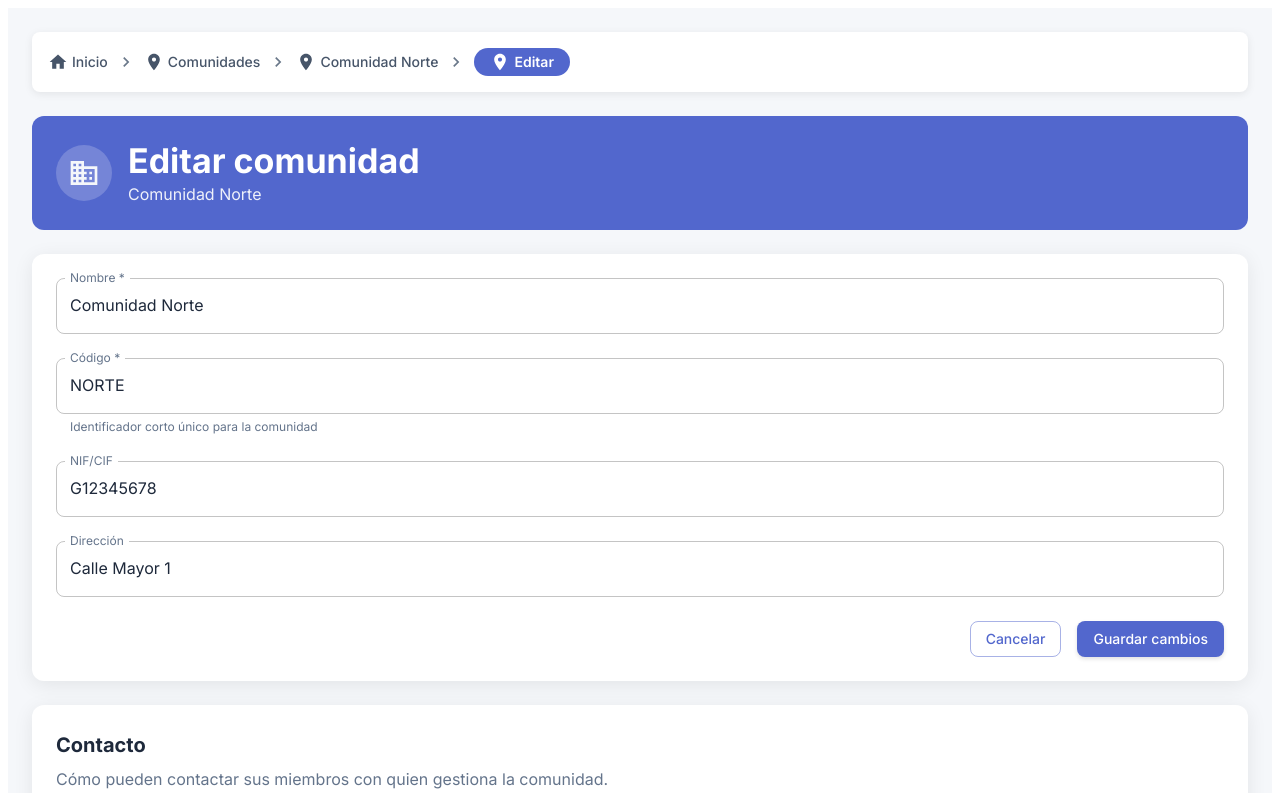
it: EditCommunityPage: a refused edit (#232) › UI-ERR-002 clears the API error once its input is edited, not when another input is
The image size is (1280, 793).
Replace the text in the field labelled "Código *" with "SUR" at (640, 386), box [56,358,1224,414]
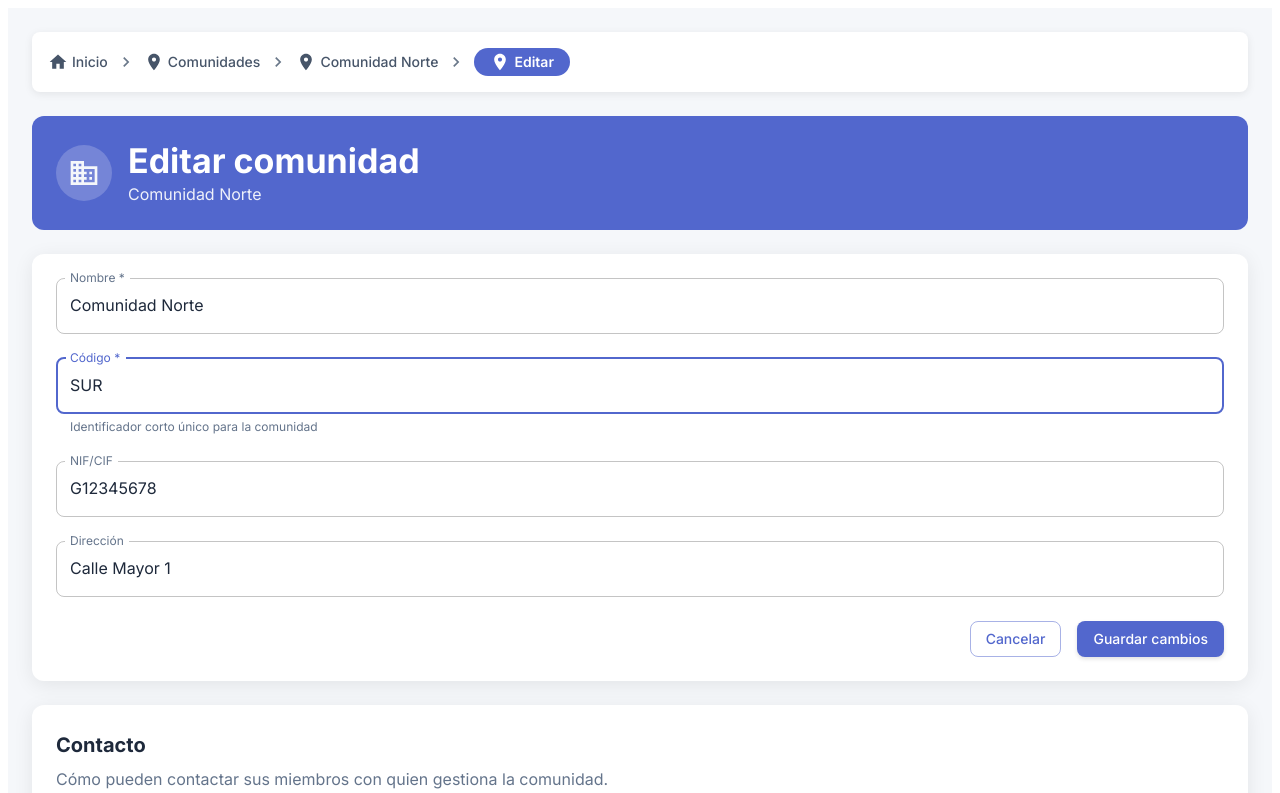
Replace the text in the field labelled "NIF/CIF" with "G87654321" at (640, 489), box [56,461,1224,517]
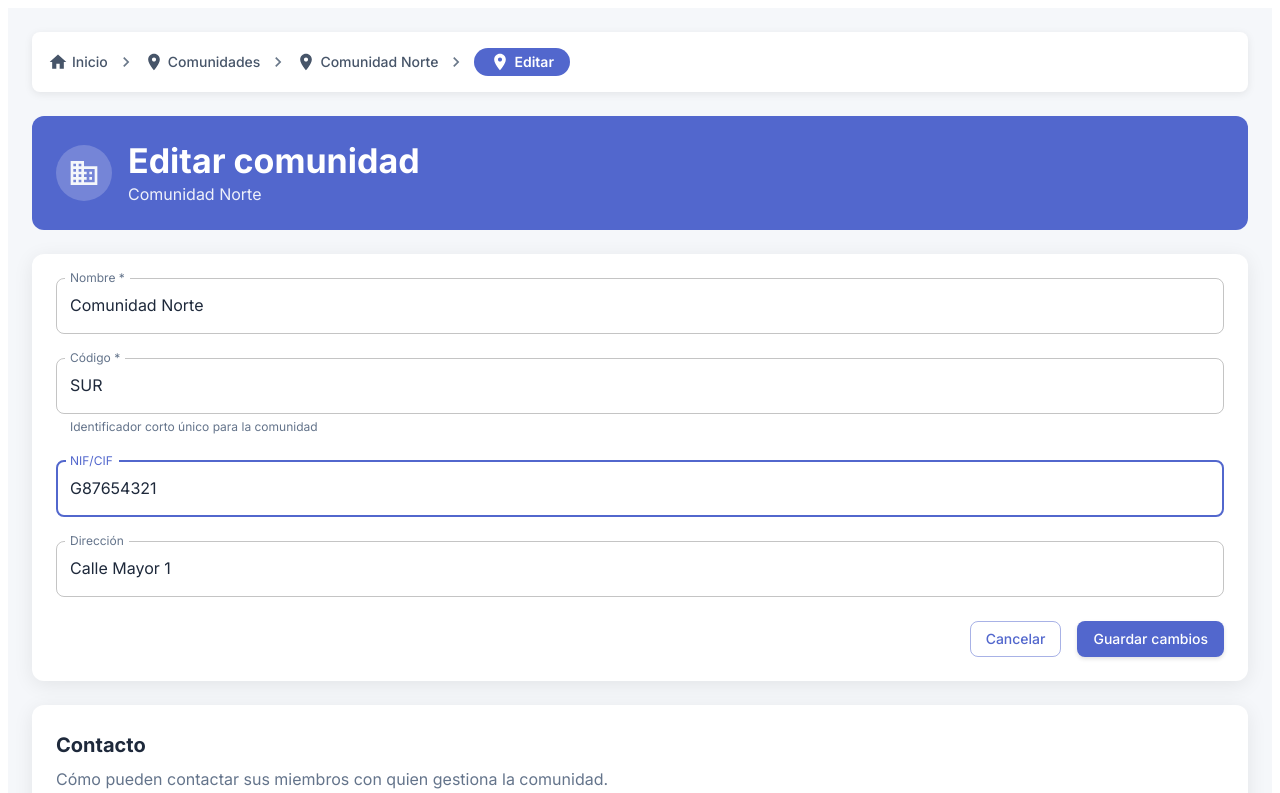
Click the button "Guardar cambios" at (1151, 639), box [1078,621,1224,657]
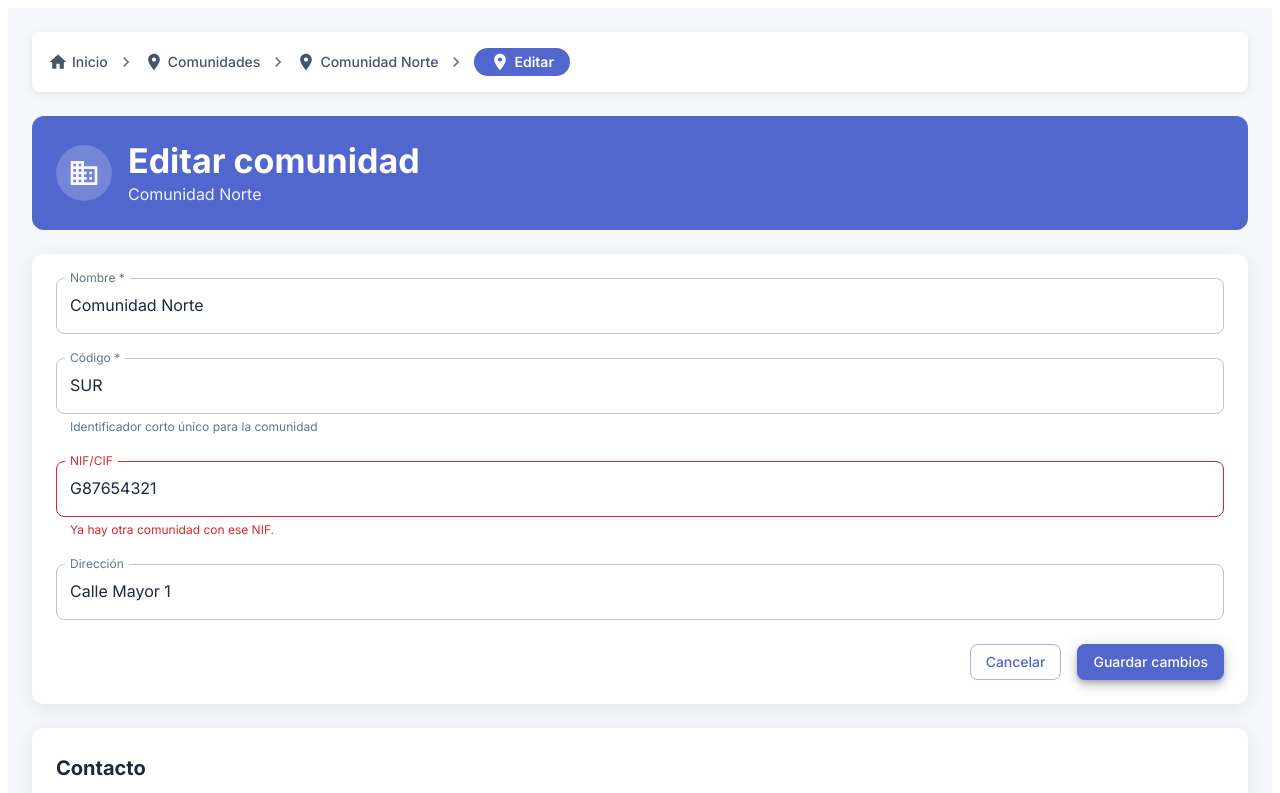
Type "2" into the field labelled "Código *" at (640, 386), box [56,358,1224,414]
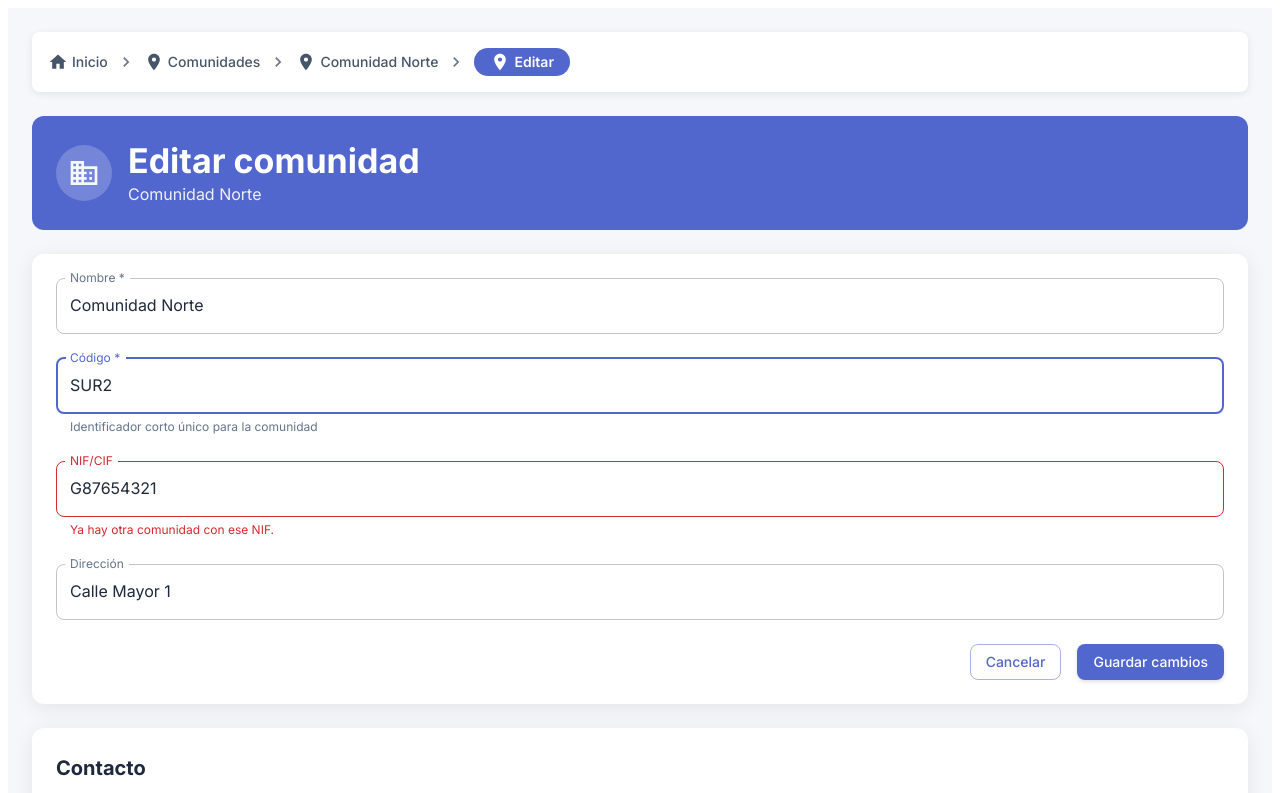
Type "0" into the field labelled "NIF/CIF" at (640, 489), box [56,461,1224,517]
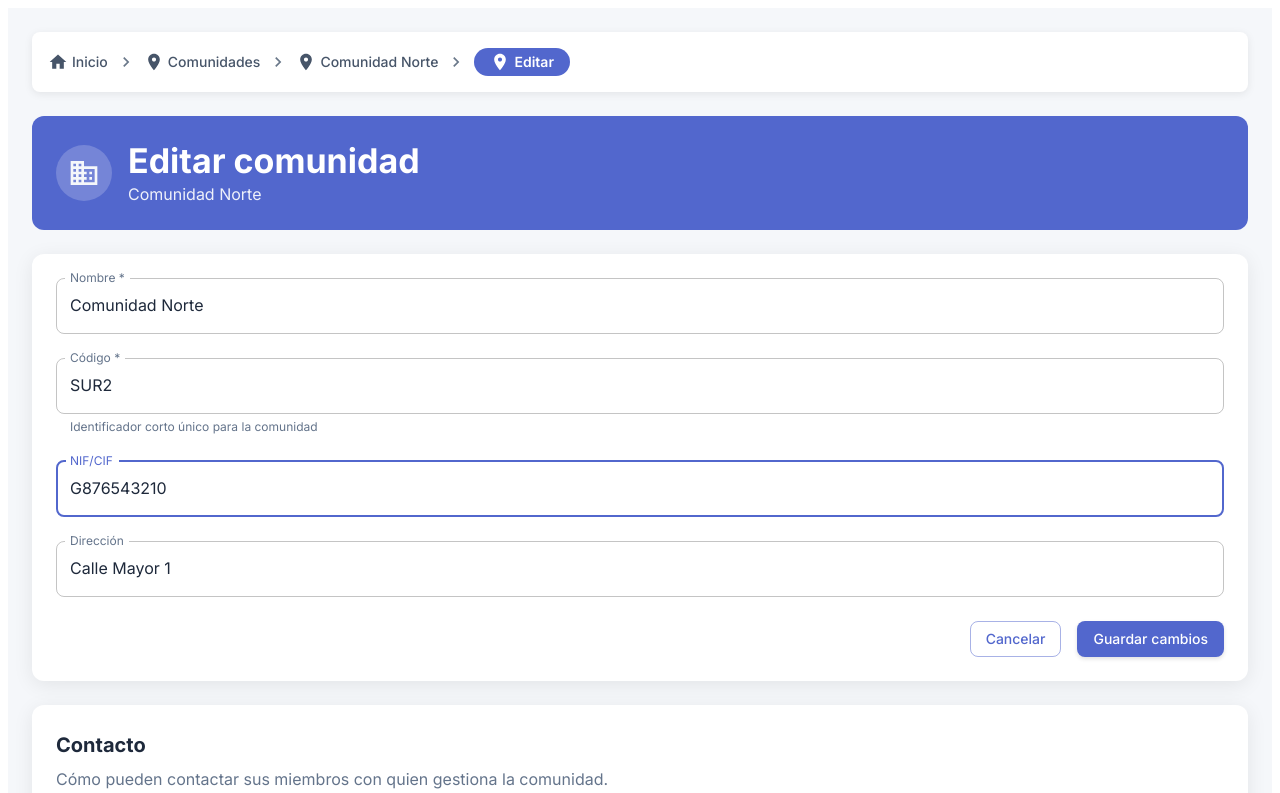
Now the field labelled "Código *" holds "SUR2", box [56,358,1224,414]
Now the field labelled "NIF/CIF" holds "G876543210", box [56,461,1224,517]
